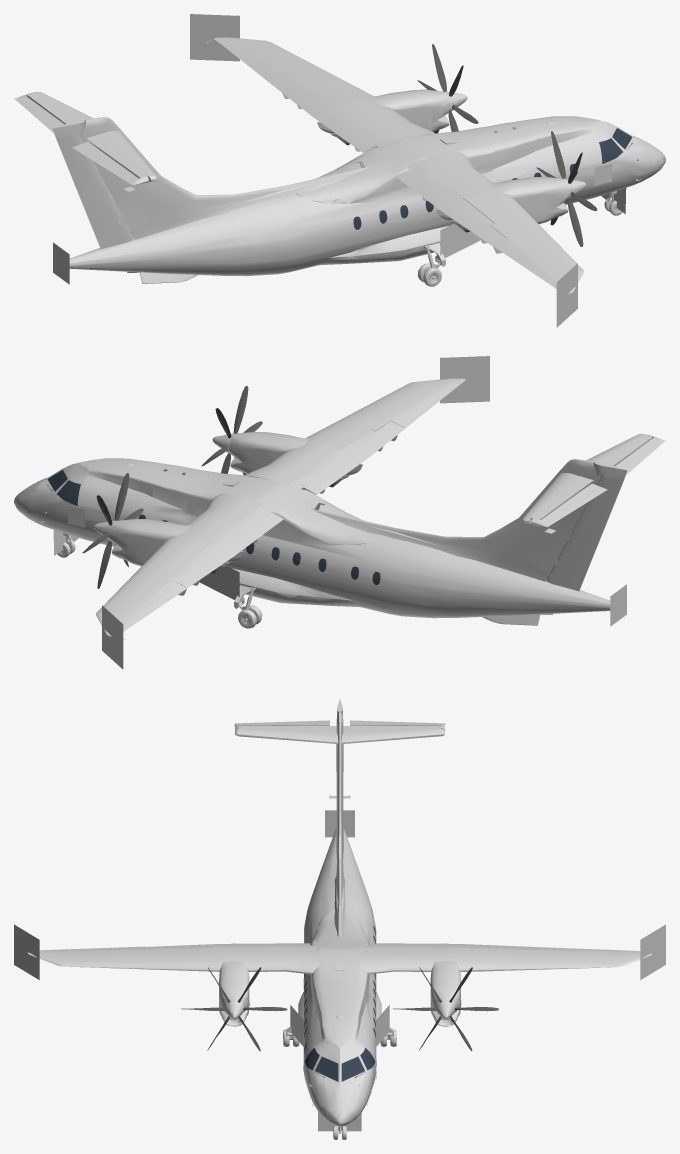
3 renders of one model, top to bottom at view 1: azimuth 30°, elevation 25°; view 2: azimuth 150°, elevation 25°; view 3: azimuth 270°, elevation 25°, orthographic. The views are drawn at different scales.
Visible parts, largest first — view 1: body, spin (×2), glass; view 2: body, spin (×2), glass; view 3: body, glass, spin (×2).
Boxes of the visible parts, x1,y1,x2,y2 form: body: [14, 14, 665, 327]; spin (×2): [417, 44, 597, 246]; glass: [353, 128, 632, 229]; body: [14, 356, 665, 669]; spin (×2): [82, 386, 262, 588]; glass: [47, 470, 380, 584]; body: [14, 699, 665, 1139]; glass: [304, 926, 375, 1081]; spin (×2): [181, 967, 498, 1051].
Bounding box in the file's own units: 2.12 × 0.7357 × 2.2.
